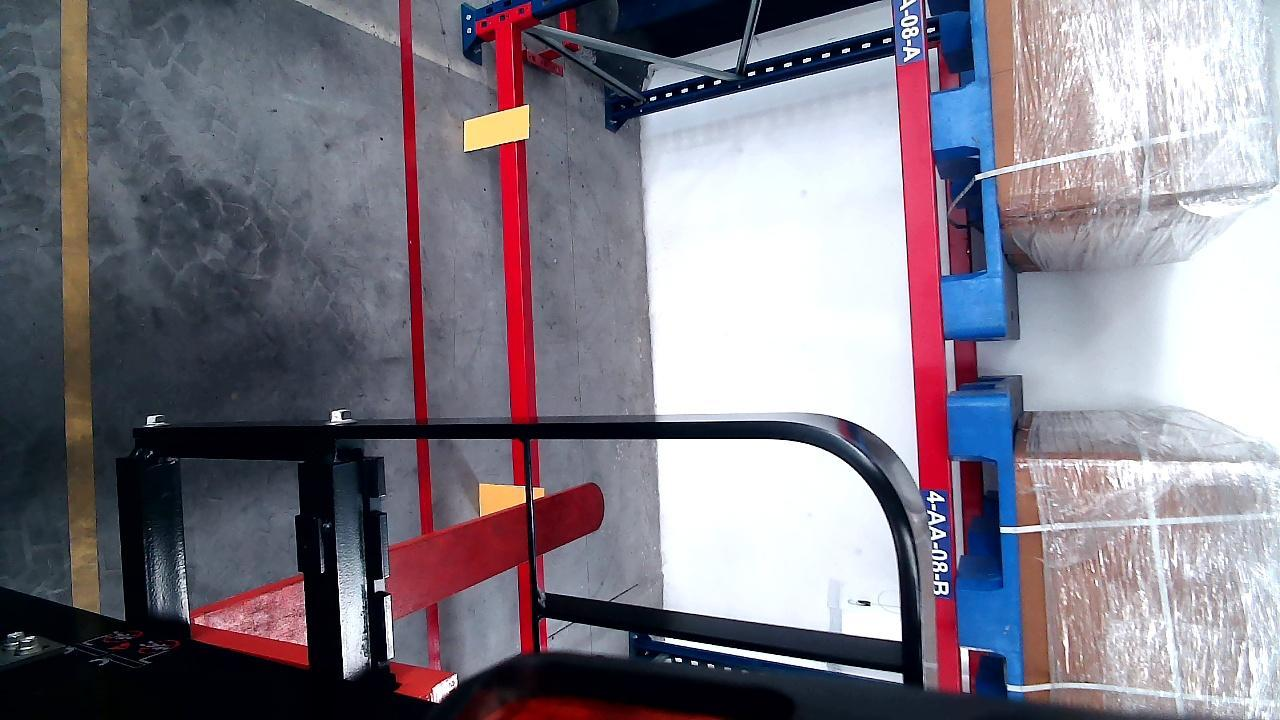red_line: (398, 0, 435, 534)
